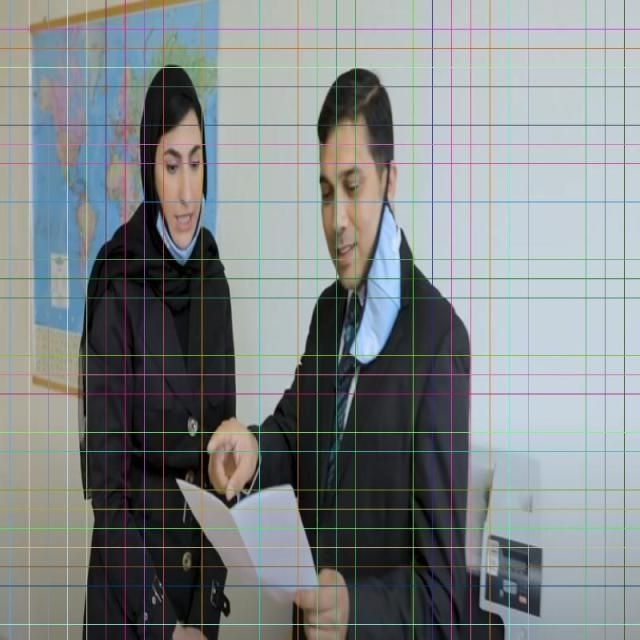hairnet: (318, 162, 400, 364), (152, 143, 205, 262)
